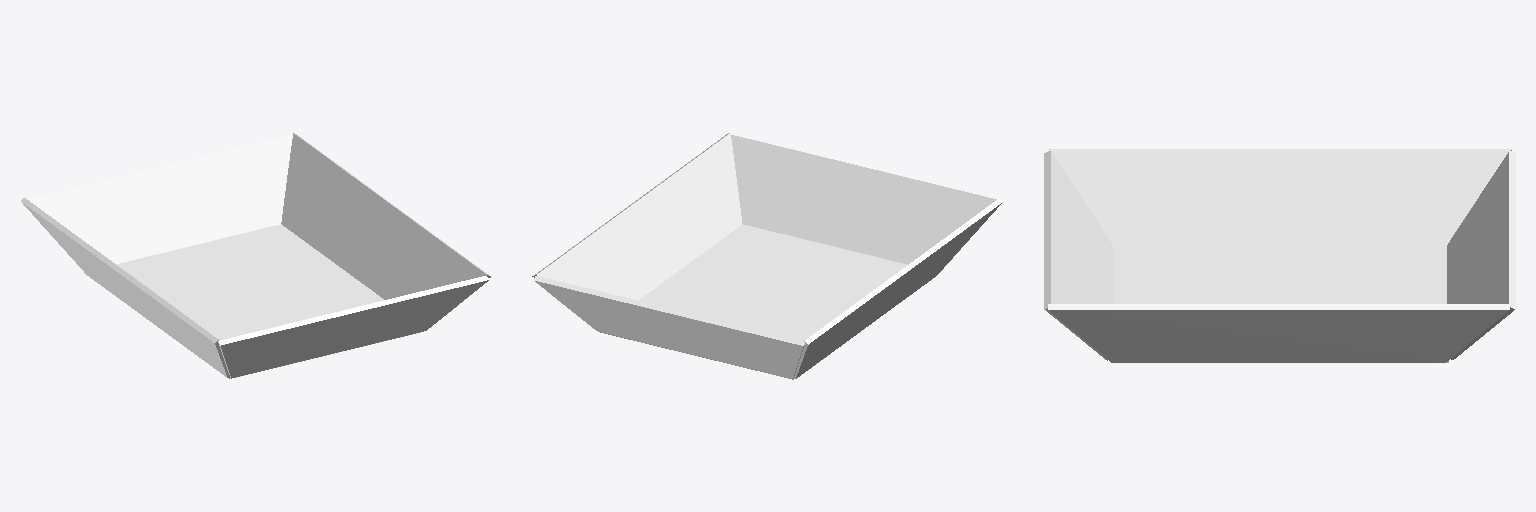
URDF robot description (tray):
<robot name="tray">
  <link name="tray_base_link">
    <contact>
      <lateral_friction value="0.5"/>
      <rolling_friction value="0.0"/>
      <contact_cfm value="0.0"/>
      <contact_erp value="1.0"/>
    </contact>
    <inertial>
      <origin rpy="0 0 0" xyz="0 0 0"/>
      <mass value="0"/>
      <inertia ixx="0" ixy="0" ixz="0" iyy="0" iyz="0" izz="0"/>
    </inertial>
    <visual>
      <origin rpy="0 0 0" xyz="0 0 0"/>
      <geometry>
        <mesh filename="tray_no_divider.obj" scale="0.5 0.6 0.5"/>
      </geometry>
      <material name="tray_material">
        <color rgba="1 1 1 1"/>
      </material>
    </visual>
    <collision>
      <origin rpy="0 0 0" xyz="0 0 0"/>
      <geometry>
        <mesh filename="tray_no_divider.obj" scale="0.5 0.6 0.5"/>
      </geometry>
    </collision>
  </link>
</robot>

--- Render facts (derived) ---
Views: 3 orthographic renders of the robot side by side, from view 1: azimuth 30°, elevation 25°; view 2: azimuth 150°, elevation 25°; view 3: azimuth 270°, elevation 25°.
Model tray with 1 links and 0 joints (none), rooted at tray_base_link, posed every joint at zero.
Visible links, largest first — view 1: tray_base_link; view 2: tray_base_link; view 3: tray_base_link.
Boxes of the visible links, x1,y1,x2,y2 form: tray_base_link: [21, 133, 490, 378]; tray_base_link: [532, 133, 1002, 379]; tray_base_link: [1044, 149, 1515, 362].
Size in the robot's own frame: 0.5938 by 0.7386 by 0.1384 metres.
1 mesh visuals loaded from 1 distinct referenced files (1 OBJ).